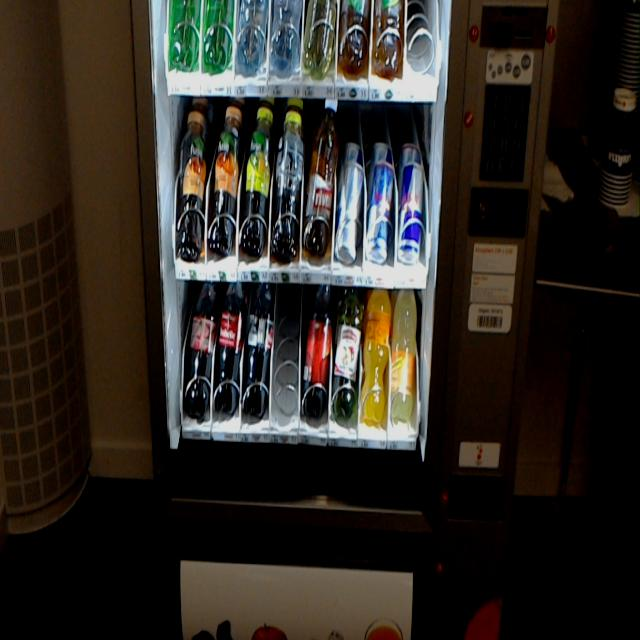coke__flasche_50__54491472: (183, 276, 214, 416), (216, 278, 243, 410)
coke_zero_flasche_50__5449000131836: (243, 280, 273, 416)
fanta___50__40822938: (360, 286, 391, 418)
fuse_lemon__50__5449000235947: (273, 113, 303, 255), (243, 104, 271, 256)
fuse_peach__50__5449000236623: (212, 103, 240, 254), (178, 111, 206, 260)
mezzomix___50__54490840: (302, 280, 334, 416)
ramseier_jusdepomme__50__7610057001078: (331, 286, 362, 414)
redbull___33__90162909: (368, 159, 394, 265), (401, 162, 424, 268), (338, 161, 362, 261)
rivella_rot__50__7610097111072: (306, 92, 339, 258)
schweppes_citrus__50__: (393, 286, 417, 419)
